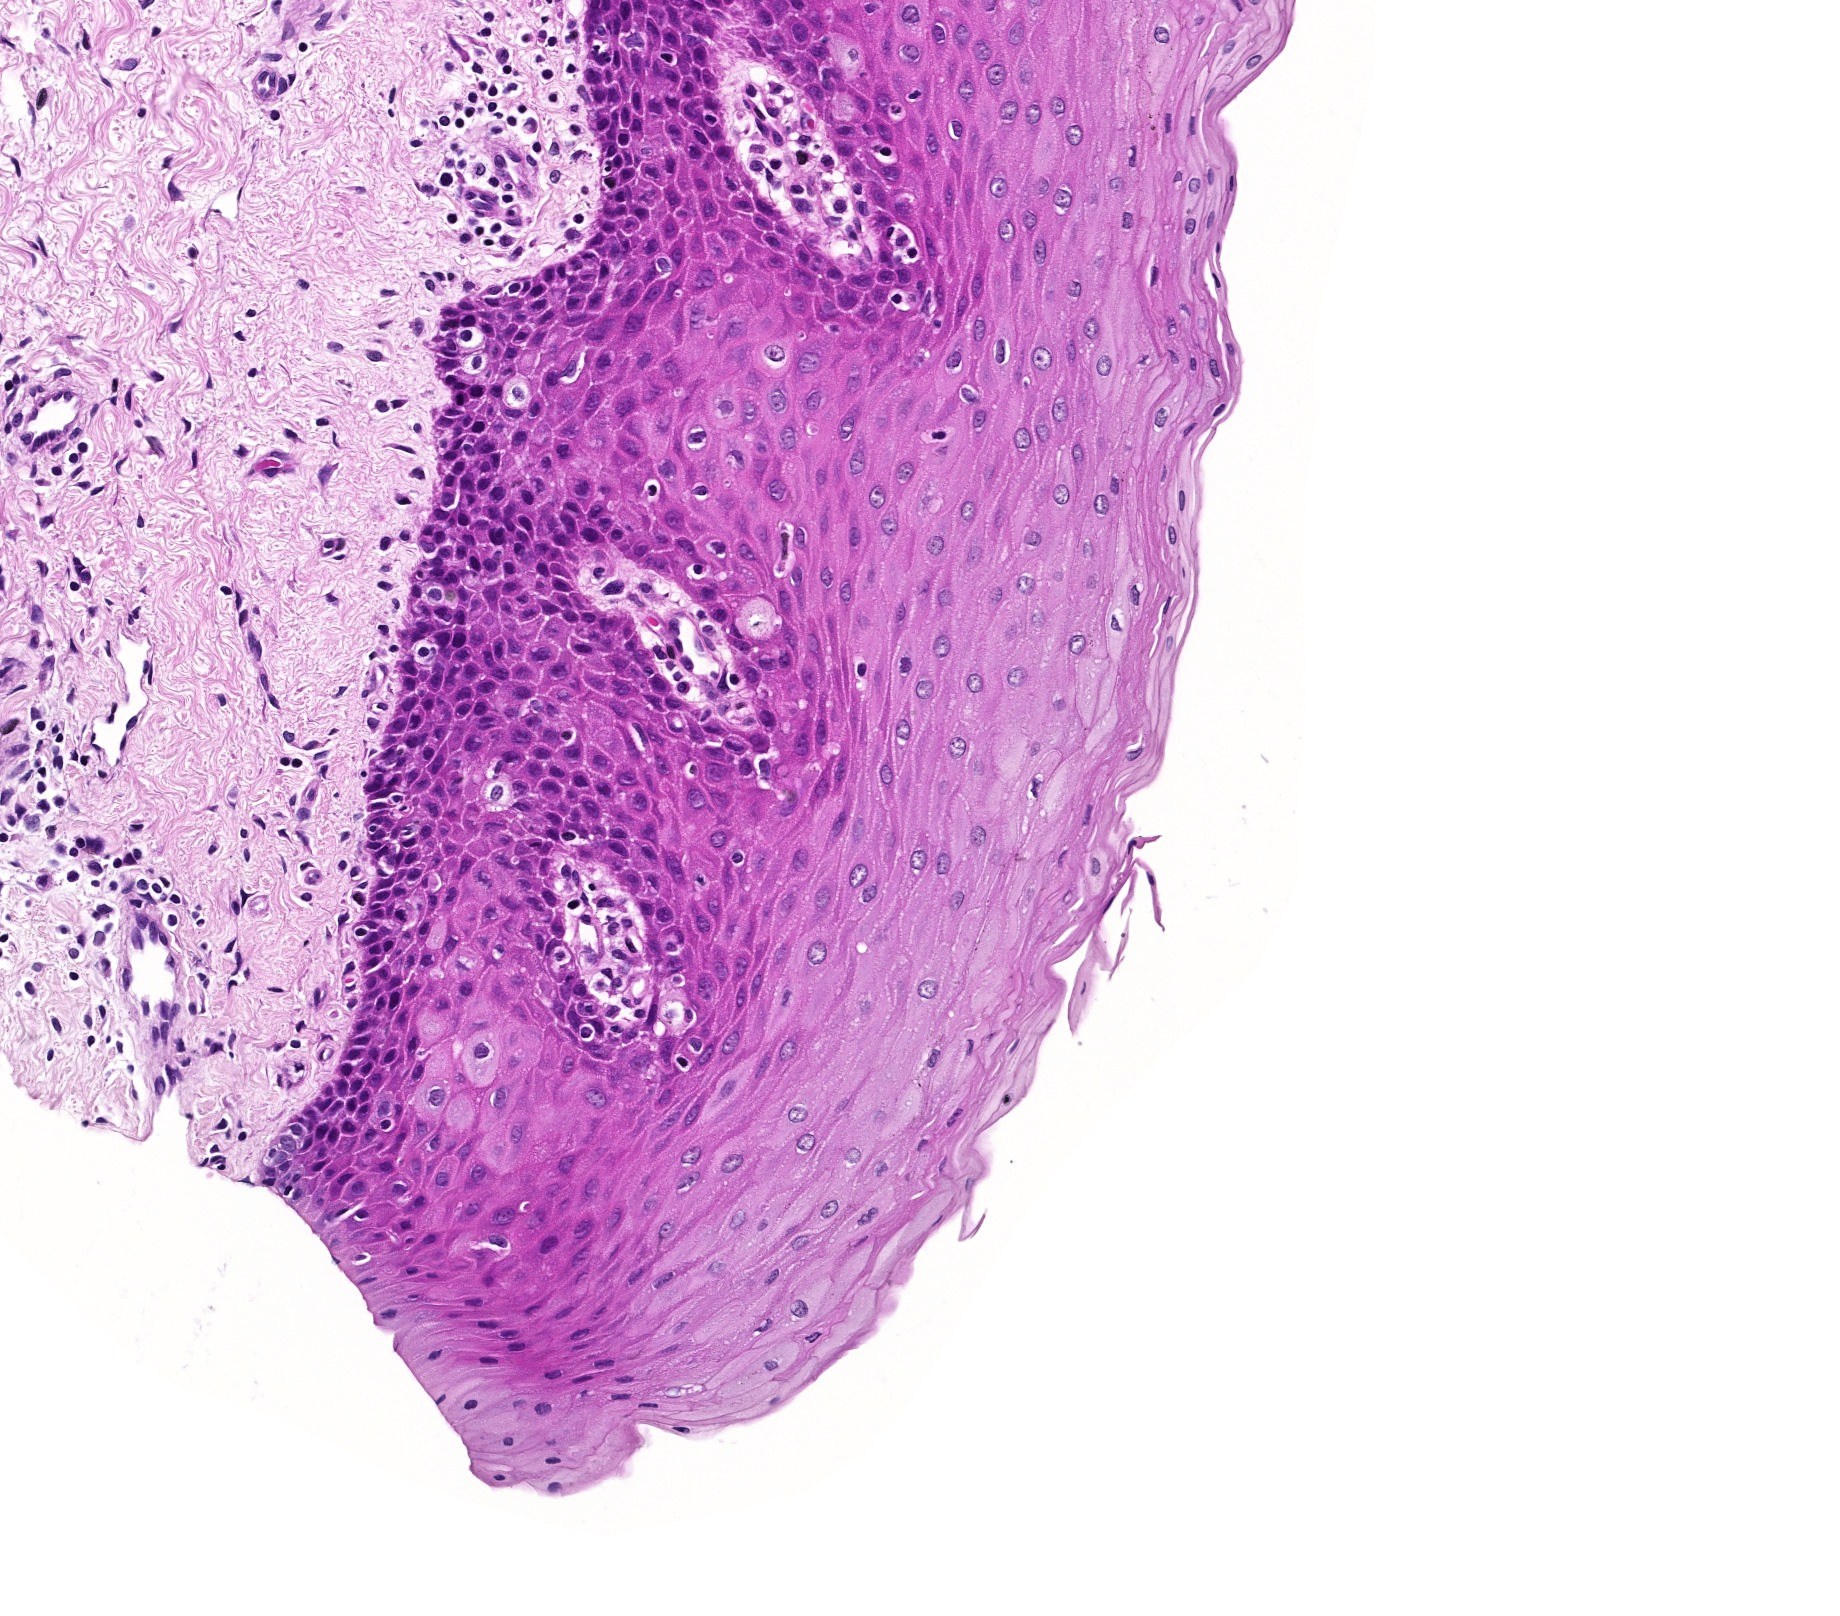epithelial: (951, 1112, 954, 1119), (573, 1015, 576, 1022), (1012, 30, 1019, 33), (344, 1067, 347, 1072), (380, 895, 385, 898), (942, 598, 947, 601), (410, 666, 413, 671), (933, 544, 936, 549), (801, 30, 803, 39), (552, 1374, 555, 1377), (505, 1331, 509, 1334), (933, 1056, 936, 1059), (393, 997, 394, 1003), (358, 1039, 365, 1040), (604, 785, 606, 792), (405, 702, 408, 706), (843, 296, 846, 299), (546, 1241, 548, 1245), (618, 845, 620, 849), (393, 777, 394, 782), (629, 641, 631, 646), (1089, 325, 1091, 330), (441, 1176, 443, 1180), (828, 1208, 831, 1209), (696, 795, 699, 796), (435, 763, 437, 767), (524, 523, 526, 526), (887, 274, 889, 277), (1188, 224, 1191, 225), (507, 1441, 509, 1442), (555, 770, 557, 771), (760, 532, 762, 533), (620, 196, 621, 197)
fibroblast and endothelial: (214, 1043, 219, 1048), (271, 469, 275, 472), (271, 699, 275, 702), (308, 745, 313, 748), (513, 155, 516, 158), (635, 1000, 638, 1003), (631, 943, 632, 950), (41, 438, 42, 443), (146, 1006, 147, 1011), (513, 222, 516, 224), (757, 111, 759, 114), (677, 641, 679, 645), (374, 354, 376, 357), (405, 447, 408, 449), (194, 455, 196, 458), (127, 397, 128, 400), (92, 408, 94, 411), (63, 371, 66, 372), (94, 490, 95, 493), (338, 557, 341, 558), (72, 645, 74, 648), (102, 1007, 103, 1011), (55, 1023, 56, 1026), (341, 917, 344, 918), (688, 1012, 690, 1015), (235, 906, 236, 907), (857, 224, 859, 225), (394, 402, 396, 404), (139, 521, 141, 523), (238, 601, 239, 602), (158, 1086, 160, 1087), (222, 1122, 224, 1123)
inflammatory: (612, 584, 616, 587), (839, 205, 842, 208), (380, 405, 383, 408), (358, 896, 361, 900), (95, 864, 99, 867), (27, 987, 30, 990), (576, 127, 577, 130), (250, 371, 253, 372), (42, 803, 44, 806), (491, 178, 493, 180), (828, 160, 829, 161), (383, 540, 385, 541), (437, 591, 438, 593)
lymphocyte: (274, 113, 275, 119), (939, 433, 942, 436), (512, 286, 515, 289), (55, 469, 58, 472), (571, 903, 576, 904), (912, 250, 914, 253), (74, 455, 75, 458), (224, 590, 227, 591), (734, 677, 735, 681), (116, 860, 117, 864), (58, 735, 59, 738), (39, 724, 42, 726), (39, 785, 41, 788), (286, 1189, 289, 1190), (488, 14, 490, 16), (468, 111, 469, 113), (668, 55, 670, 56), (416, 426, 418, 427), (487, 241, 488, 242), (72, 585, 74, 587), (422, 651, 424, 652), (393, 648, 394, 649), (243, 832, 244, 834), (340, 864, 341, 865), (175, 900, 177, 901), (72, 975, 74, 976), (383, 1122, 385, 1123)
